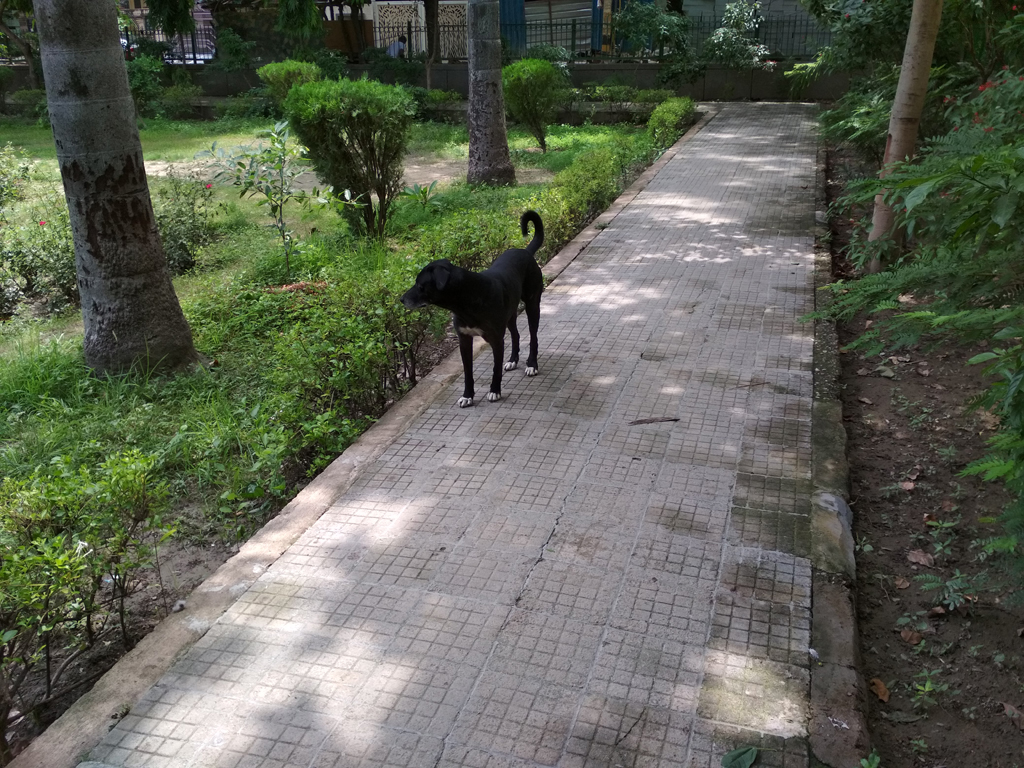dog: (400, 210, 546, 409)
